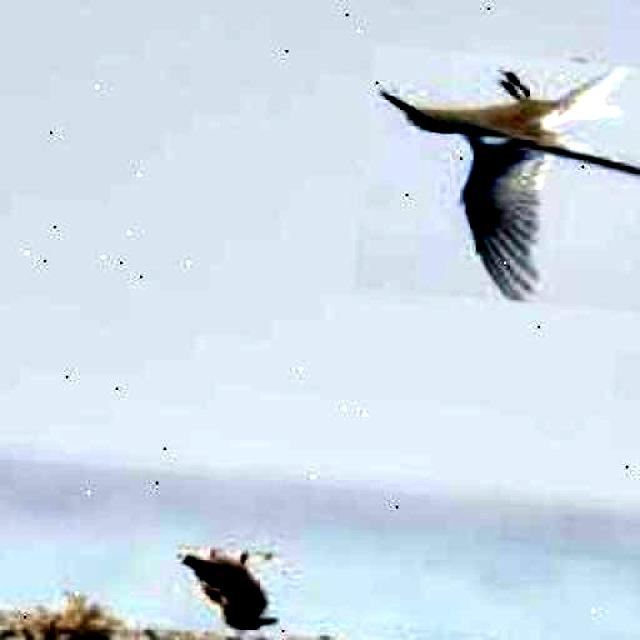airplane: (354, 45, 640, 319), (170, 545, 284, 638)
